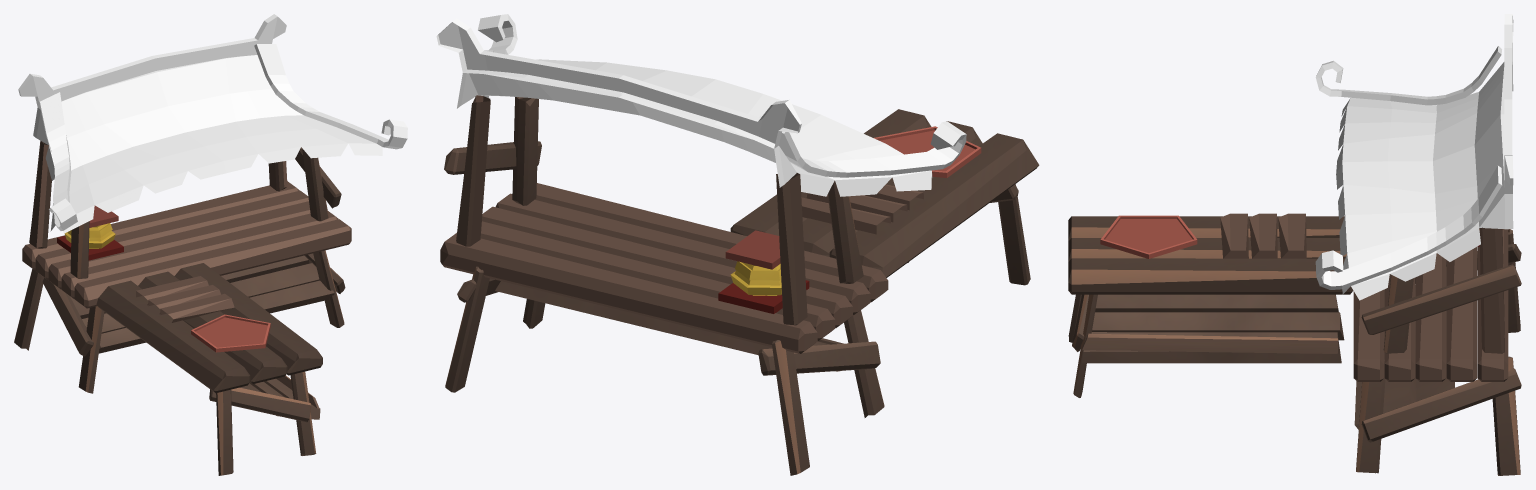
The model's file is Shop_2lvl.fbx.
3 renders of one model, left to right at view 1: azimuth 30°, elevation 25°; view 2: azimuth 150°, elevation 25°; view 3: azimuth 270°, elevation 25°, orthographic. The views are drawn at different scales.
Visible parts, largest first — view 1: Shop_2lvl; view 2: Shop_2lvl; view 3: Shop_2lvl.
Boxes of the visible parts, box(x1,y1,x2,y2) form: Shop_2lvl: box(14, 14, 407, 475); Shop_2lvl: box(436, 14, 1039, 475); Shop_2lvl: box(1068, 14, 1521, 475).
Bounding box in the file's own units: 3.91 × 2.89 × 3.65.
1 material, 1 textured.
